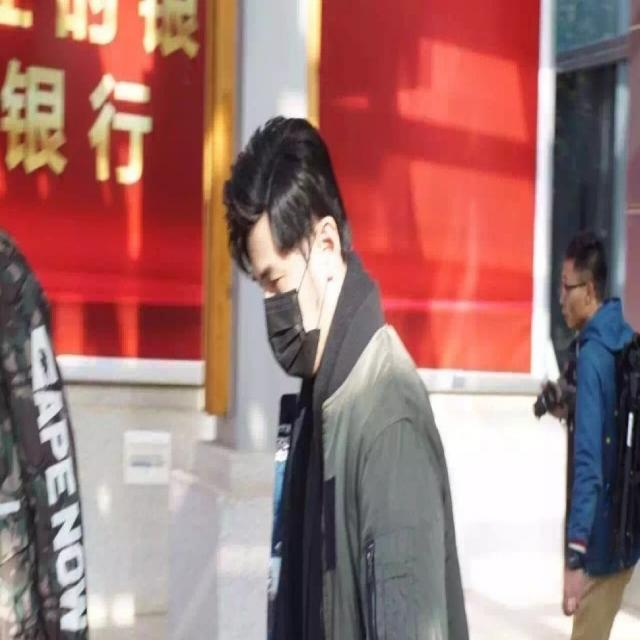mask: (246, 222, 324, 376)
nomask: (556, 260, 592, 326)
